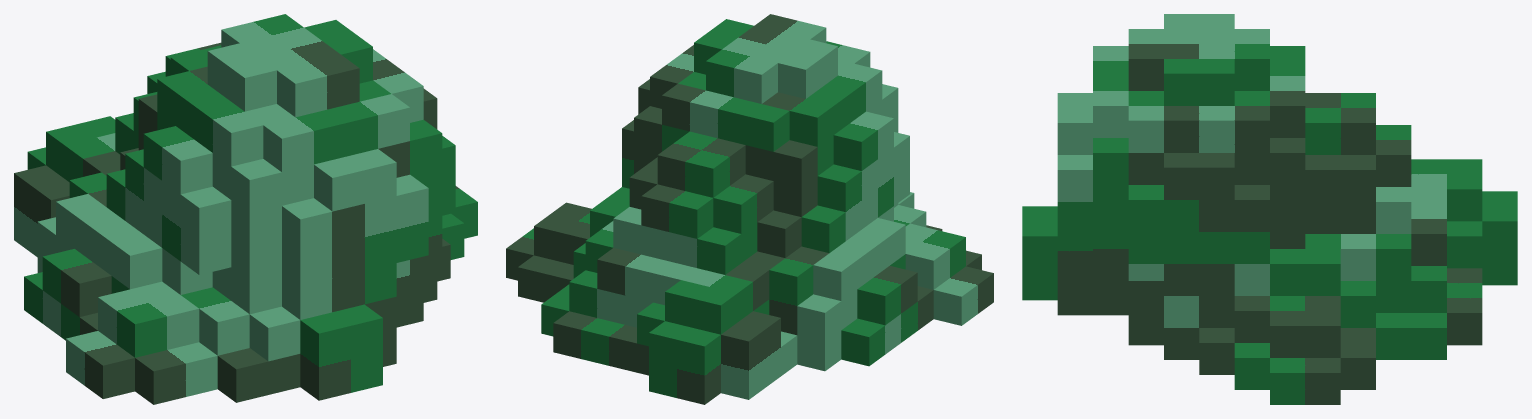
Rendered from Arbusto_04.obj.
3 renders of one model, left to right at view 1: azimuth 30°, elevation 25°; view 2: azimuth 150°, elevation 25°; view 3: azimuth 270°, elevation 25°, orthographic. The views are drawn at different scales.
Parts seen in each view (by area): view 1: Content; view 2: Content; view 3: Content.
Boxes of the visible parts, bbox=[...] form: Content: bbox=[14, 14, 477, 404]; Content: bbox=[506, 14, 993, 404]; Content: bbox=[1022, 14, 1517, 404].
Size of the model in its own units: 1.12 by 0.64 by 1.12.
